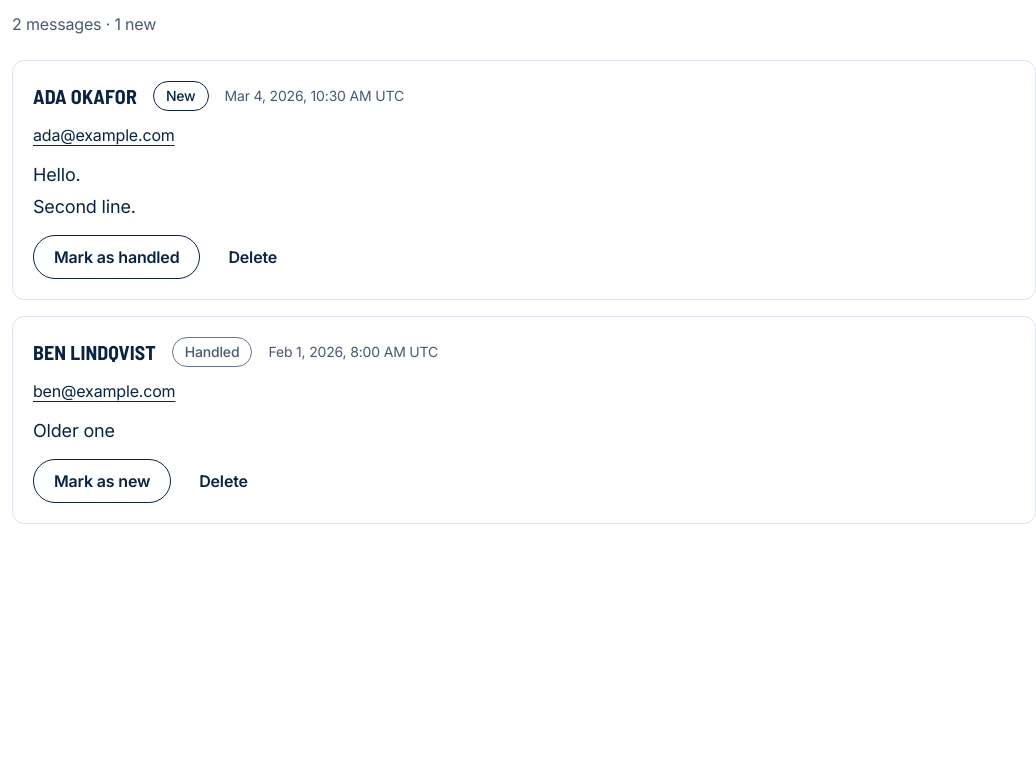
Test case: MessagesList › shows a failure as an alert
Step 1. Click the button with aria-label "Mark the message from Ada Okafor as handled" → [117, 257], box [33,235,200,279]
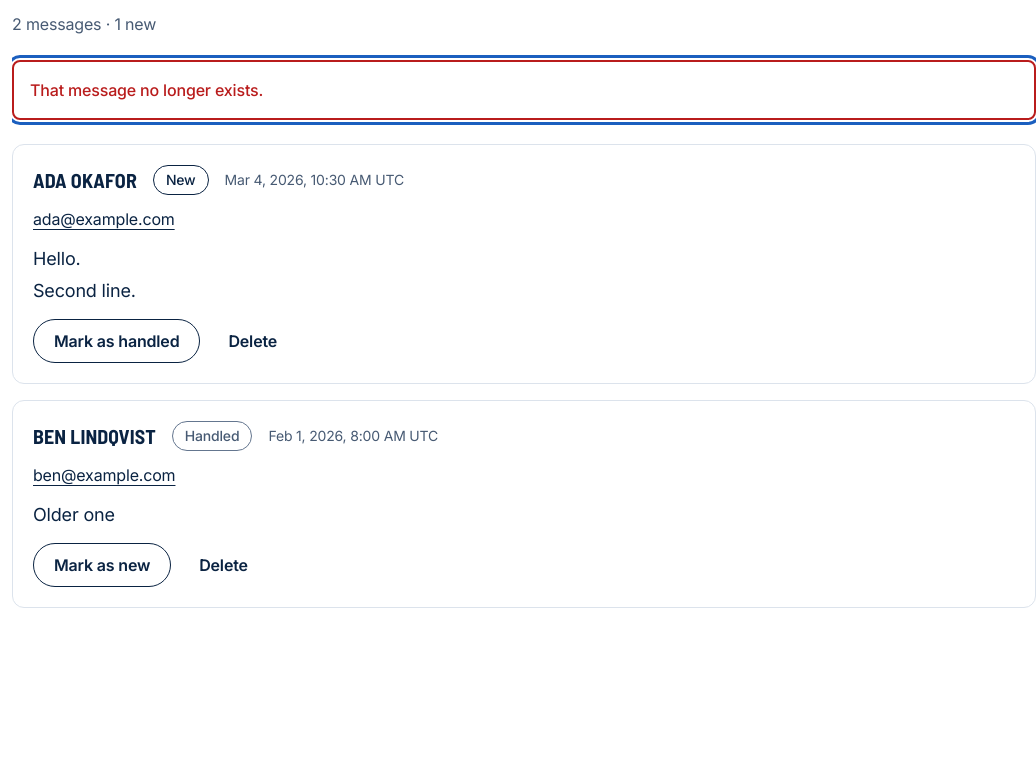
expect the message shows "no longer exists": met, box [30,80,263,100]
